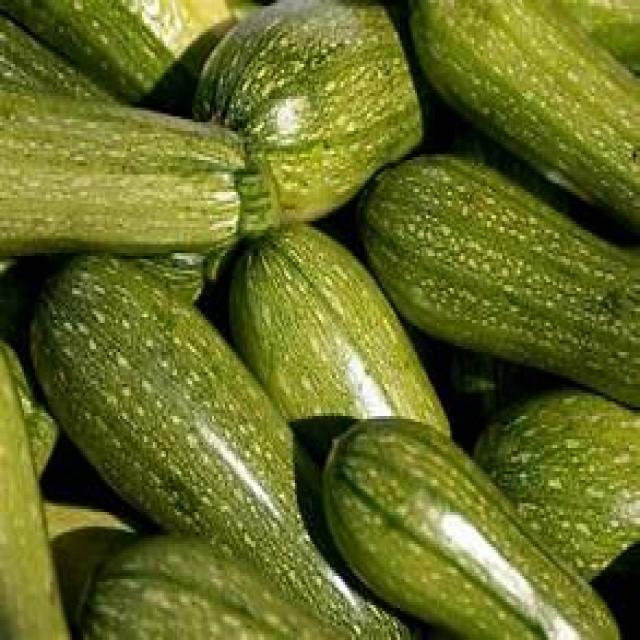Zucchini: (0, 86, 279, 258)
